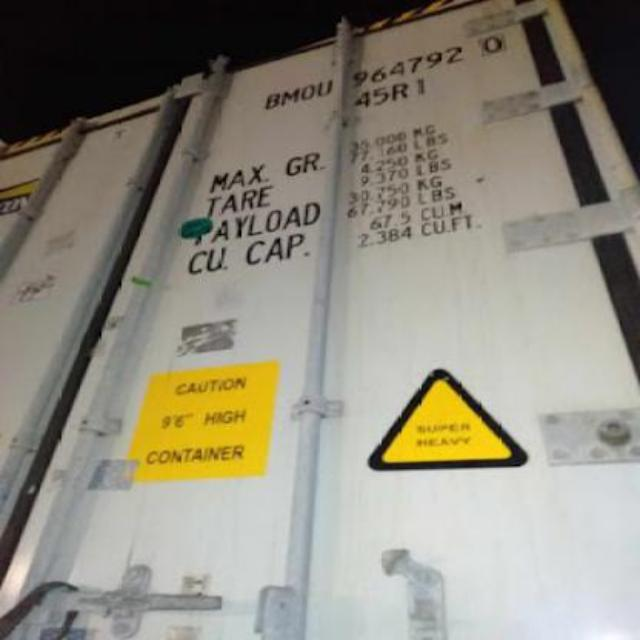0: (482, 37, 502, 55)
2: (444, 45, 464, 65)
4: (390, 60, 406, 78)
6: (372, 64, 386, 84)
7: (406, 55, 424, 75)
9: (352, 69, 370, 87), (426, 51, 444, 69)
B: (262, 94, 282, 110)
M: (282, 87, 300, 105)
O: (300, 81, 316, 102)
U: (316, 79, 332, 97)
